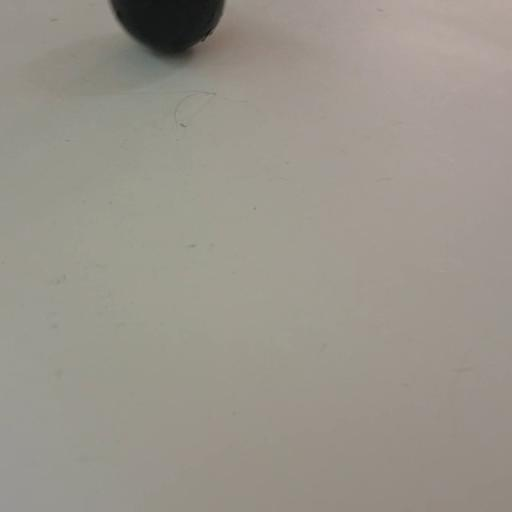dead: (106, 0, 230, 55)
